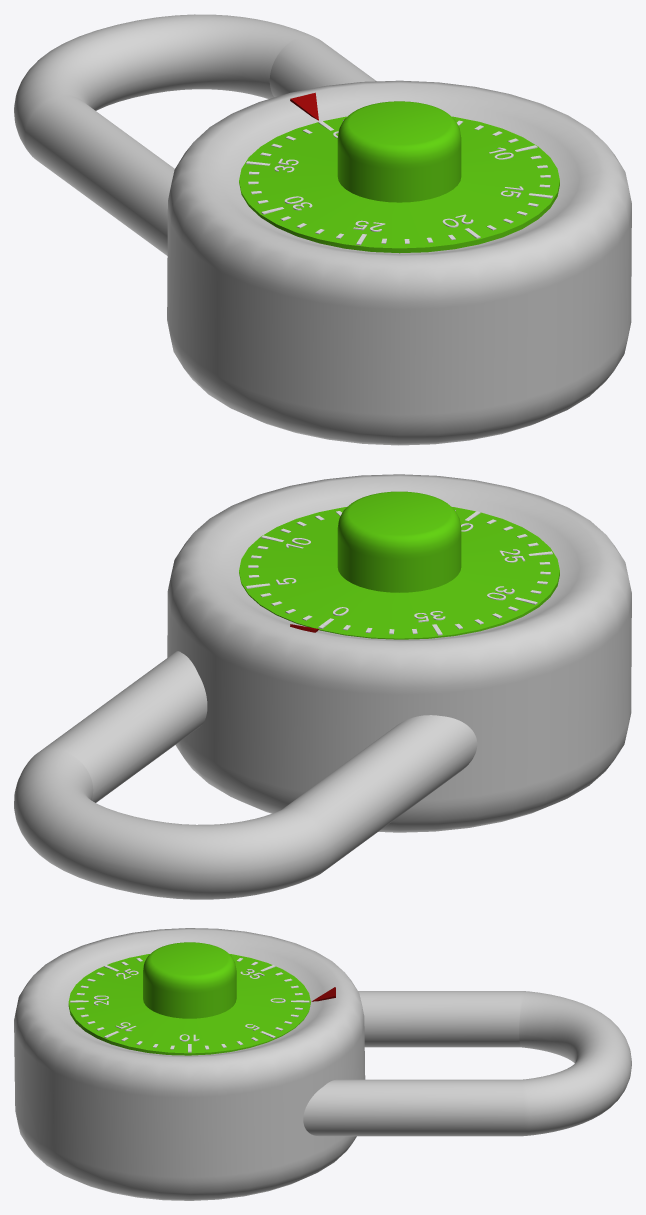
File: lock11.dae
3 views of the same model, one above another, from view 1: azimuth 30°, elevation 25°; view 2: azimuth 150°, elevation 25°; view 3: azimuth 270°, elevation 25° (orthographic). The views are drawn at different scales.
Parts seen in each view (by area): view 1: base, button, Sweep; view 2: base, Sweep, button; view 3: base, Sweep, button.
Boxes of the visible parts, bbox=[...] form: base: bbox=[167, 80, 631, 445]; button: bbox=[239, 101, 559, 253]; Sweep: bbox=[14, 14, 376, 255]; base: bbox=[167, 474, 631, 832]; Sweep: bbox=[14, 651, 477, 899]; button: bbox=[239, 491, 559, 639]; base: bbox=[14, 928, 365, 1200]; Sweep: bbox=[303, 991, 631, 1136]; button: bbox=[68, 942, 310, 1055].
Size of the model in its own units: 100 by 56.69 by 176.
